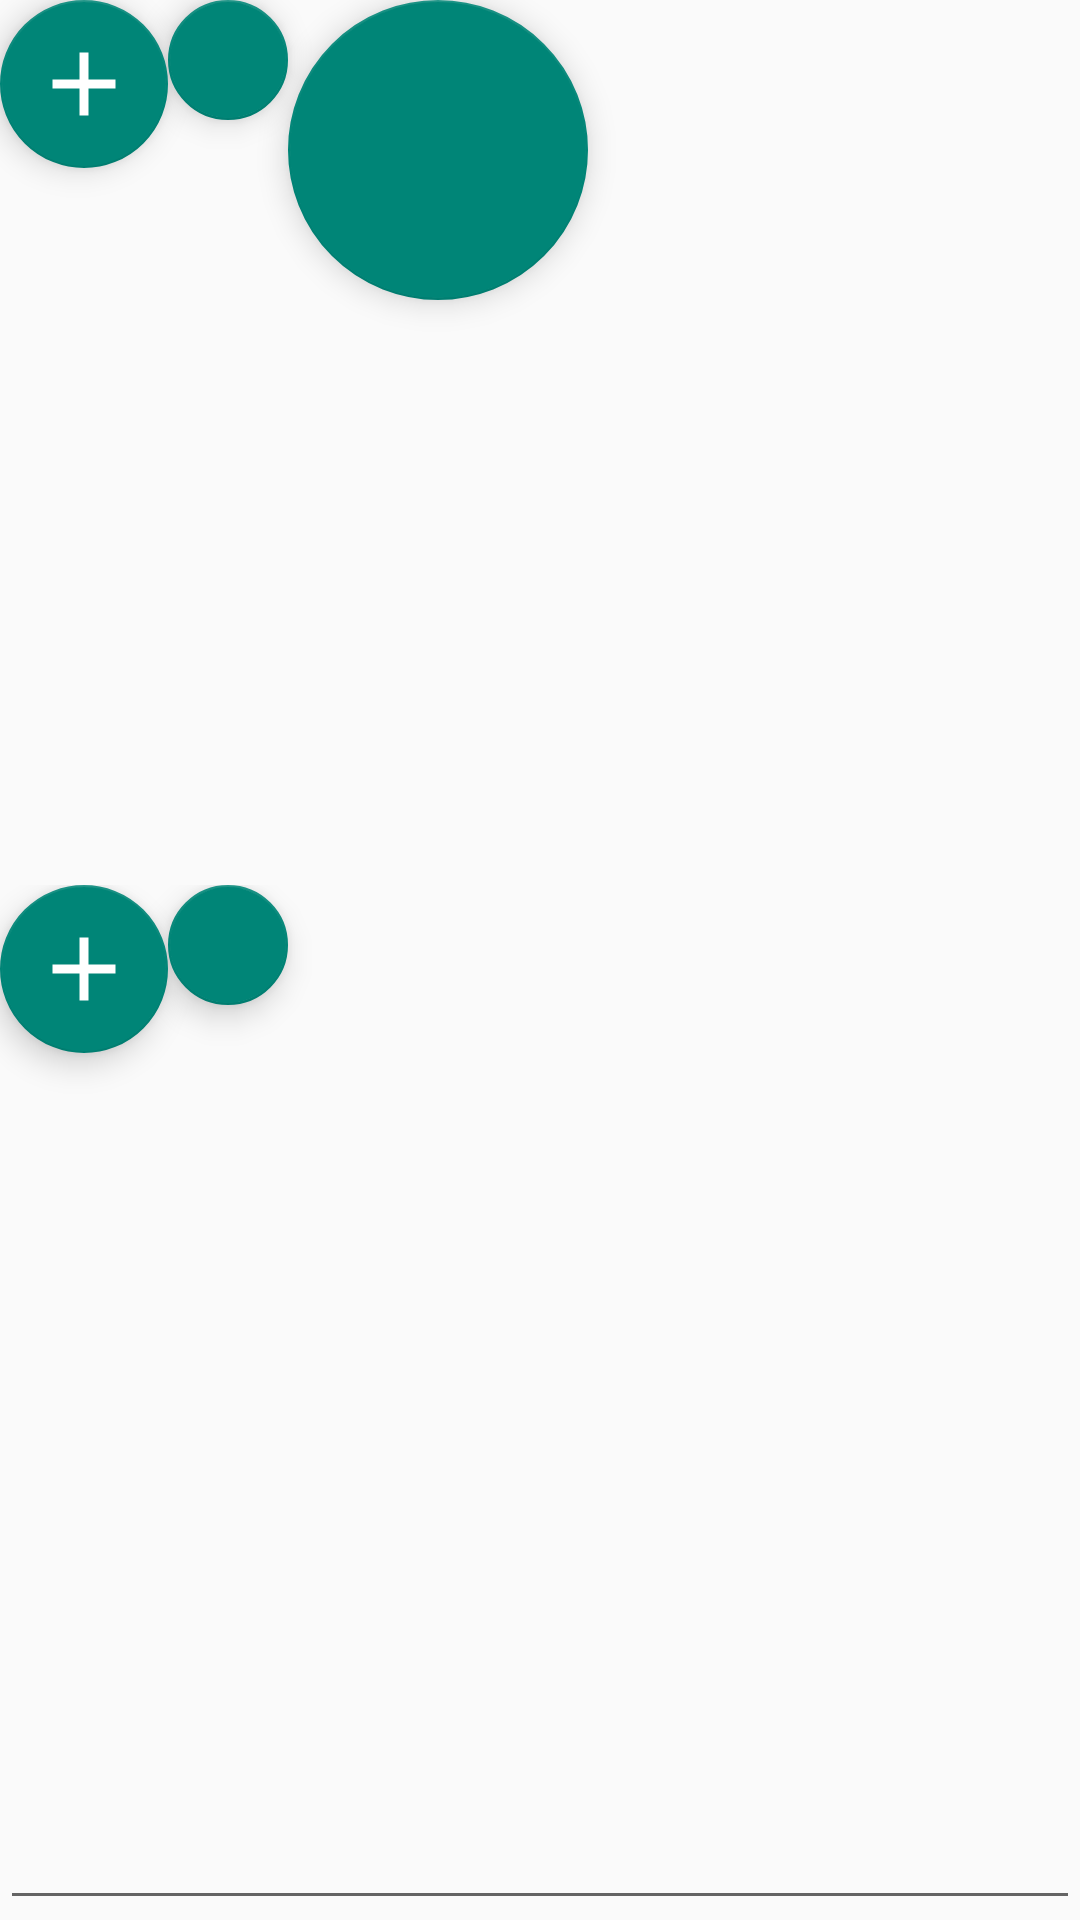

Icons on this 1080*1920 Android screen, each with the point to tap as (x,y):
plus: (84,84), (84,969)
